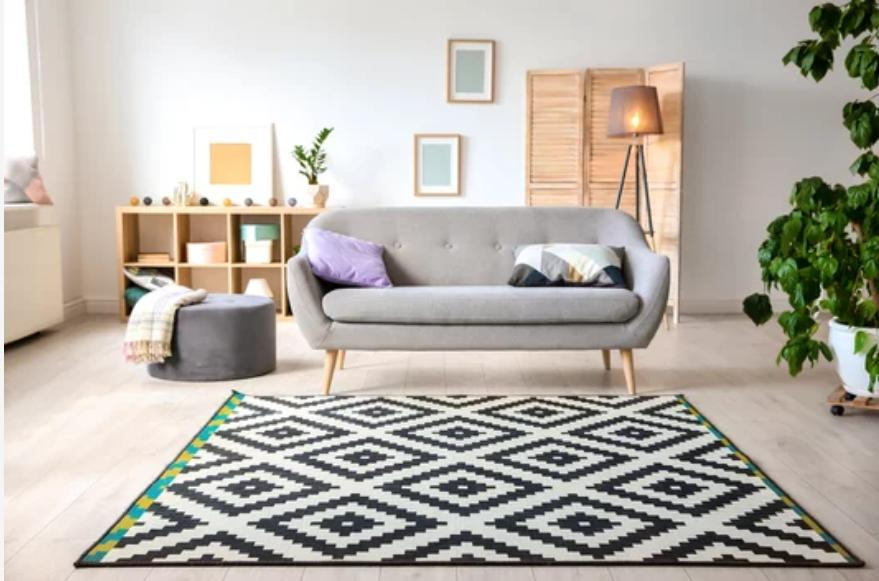carpet: (75, 391, 862, 567)
